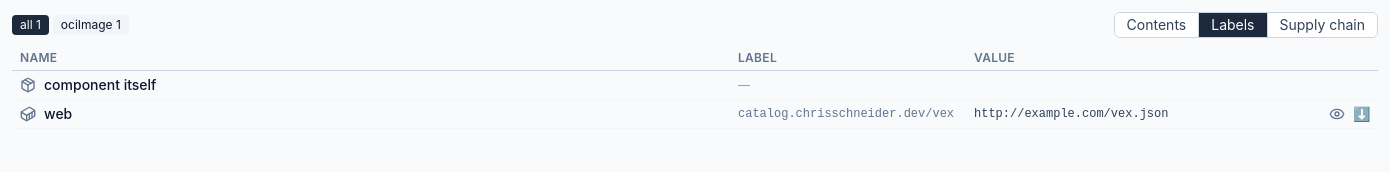
Test: labels view: a VEX label URL that is not https is shown as text
Click the button named "View catalog.chrisschneider.dev/vex" at (1337, 114), box [1329,106,1345,122]
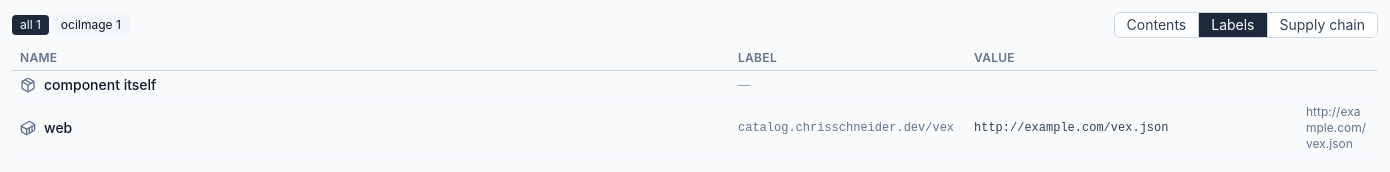
Expected: the text "http://example.com/vex.json" is shown, [1306,104,1370,152]
